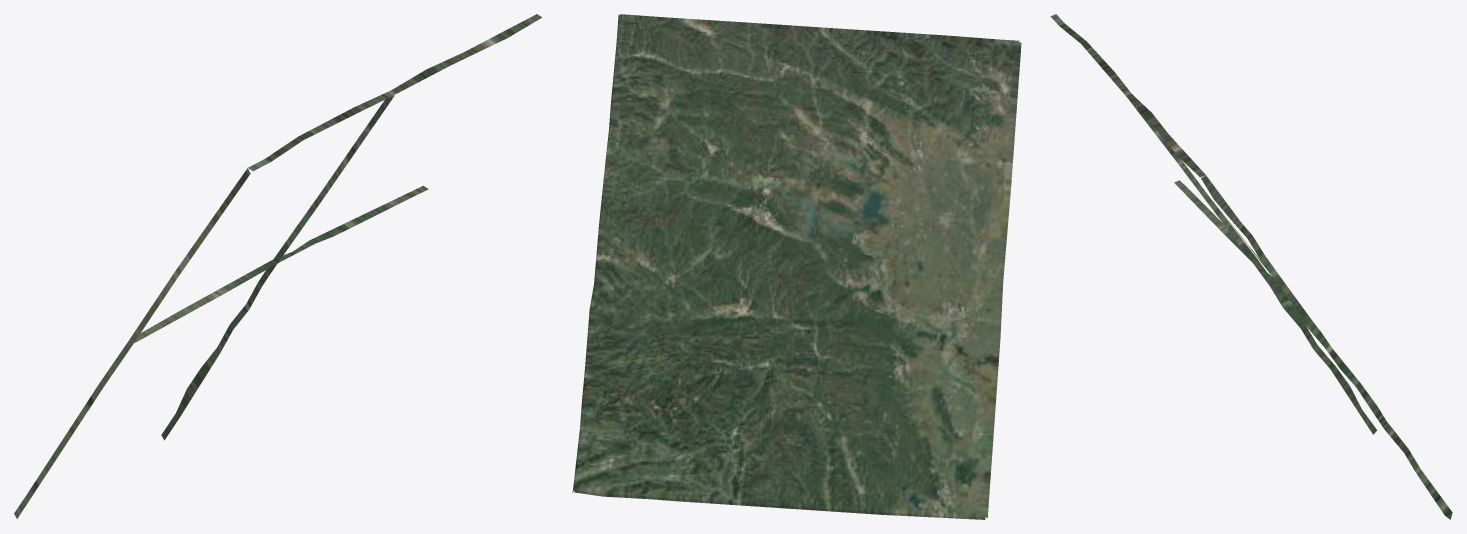
The picture shows the model from 3 angles, left to right: view 1: azimuth 30°, elevation 25°; view 2: azimuth 150°, elevation 25°; view 3: azimuth 270°, elevation 25°; orthographic projection. The views are drawn at different scales.
Bounding box in the file's own units: 310841 × 269325 × 256366.
1 material, 1 textured.
